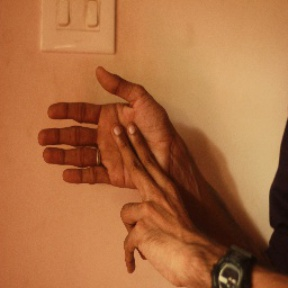N: (39, 61, 186, 247)
